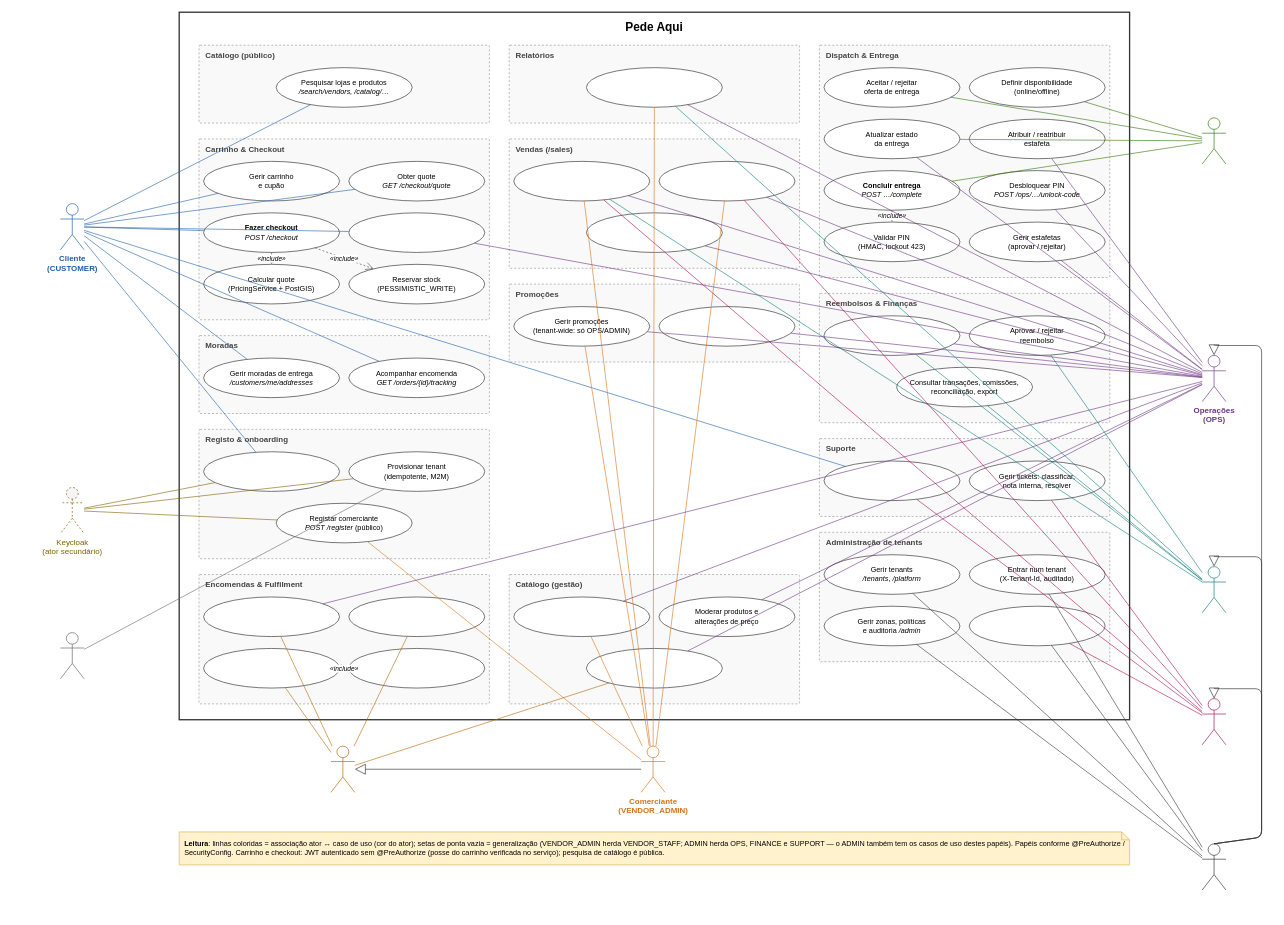
This 1284x925 diagram has some shape labels left out. The shapes that lost their labels are listed below. From the top down, each one's centre as x and y in pixels, then its label:
At point (654, 87): "Relatórios de vendas + CSV (VENDOR_ADMIN: só o seu vendor)".
At point (1214, 140): "Estafeta (COURIER)".
At point (581, 181): "Consultar vendas (PII mascarada p/ SUPPORT)".
At point (726, 181): "Cancelar venda / reenviar notificação".
At point (416, 232): "Confirmar pagamento (mock, dev)".
At point (654, 232): "Override de estado (gated, allow-list)".
At point (726, 326): "Gerir cupões /marketing/coupons".
At point (891, 335): "Pedir reembolso de venda POST /sales/orders/{id}/refund".
At point (271, 471): "Registar-se como cliente POST /customers/register".
At point (891, 480): "Abrir ticket de suporte".
At point (1214, 589): "Finanças (FINANCE)".
At point (271, 616): "Consultar encomendas GET /orders".
At point (416, 616): "Aceitar / preparar / marcar pronta p/ recolha".
At point (581, 616): "Gerir catálogo: produtos, SKUs, categorias, preço, imagem".
At point (1037, 626): "Gerir utilizadores /admin/users".
At point (72, 655): "Sistema de subscrições (M2M, ROLE_provisioning:write)".
At point (271, 668): "Rejeitar encomenda PATCH /vendor/orders/{id}/reject".
At point (416, 668): "Reembolsar restante (requestRemainingRefund)".
At point (654, 668): "Atualizar stock PATCH /inventory/{id}/stock".
At point (1214, 721): "Suporte (SUPPORT)".
At point (342, 768): "Comerciante (VENDOR_STAFF)".
At point (1214, 866): "Platform Admin (ADMIN, sem tenant_id)".
